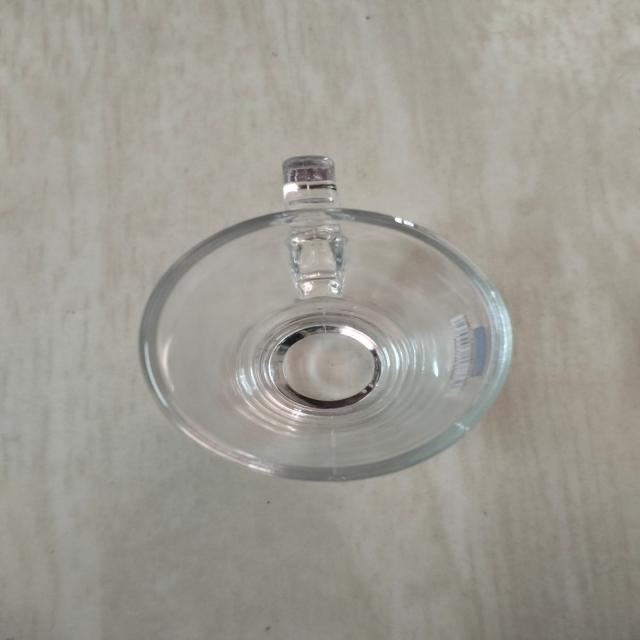glass-VX4N: (135, 155, 513, 484)
